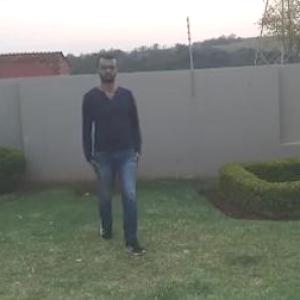follow: (79, 51, 144, 254)
